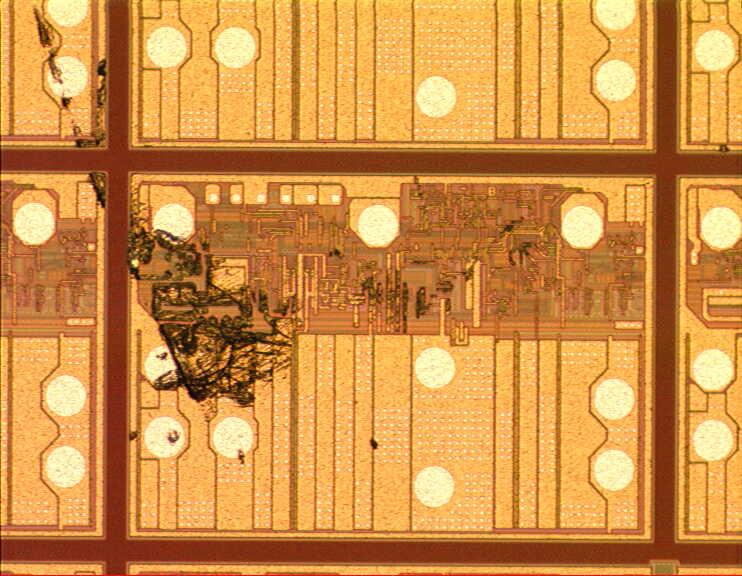SCRATCH: (26, 1, 546, 472)
